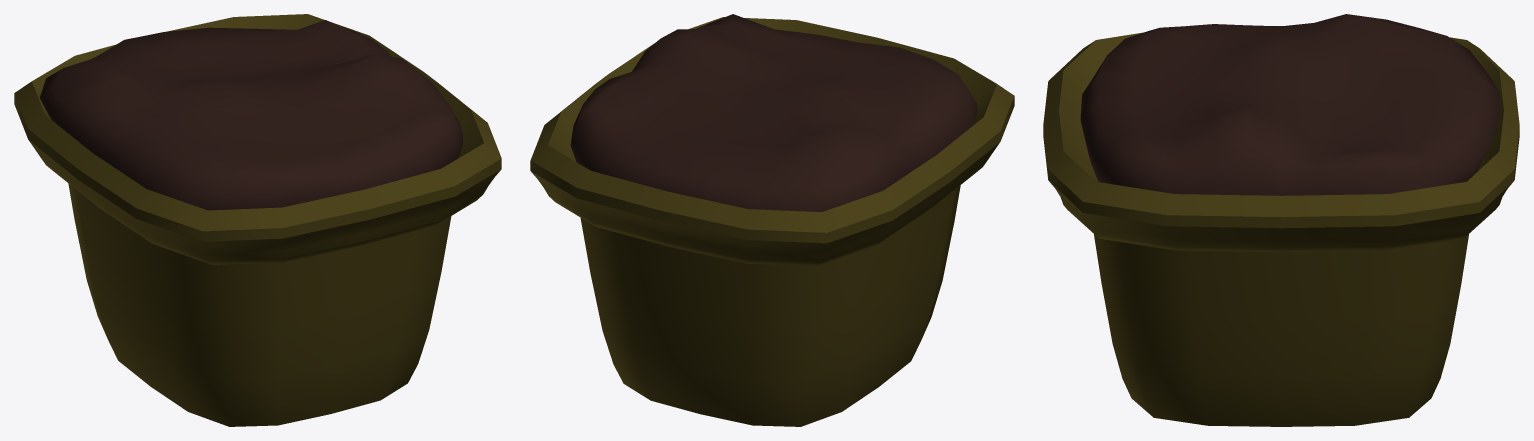
The model's file is PotForPlants_Lilith_AlchemistGarden.fbx.
The picture shows the model from 3 angles, left to right: view 1: azimuth 30°, elevation 25°; view 2: azimuth 150°, elevation 25°; view 3: azimuth 270°, elevation 25°; orthographic projection. The views are drawn at different scales.
Visible parts, largest first — view 1: Pot, DirtInPot; view 2: Pot, DirtInPot; view 3: Pot, DirtInPot.
Part boxes in pixels (x1,y1,x2,y2): Pot: (14, 14, 501, 426); DirtInPot: (39, 20, 462, 210); Pot: (530, 17, 1014, 426); DirtInPot: (570, 14, 977, 211); Pot: (1043, 26, 1519, 426); DirtInPot: (1080, 14, 1499, 195).
Bounding box in the file's own units: 308 × 337 × 241.
